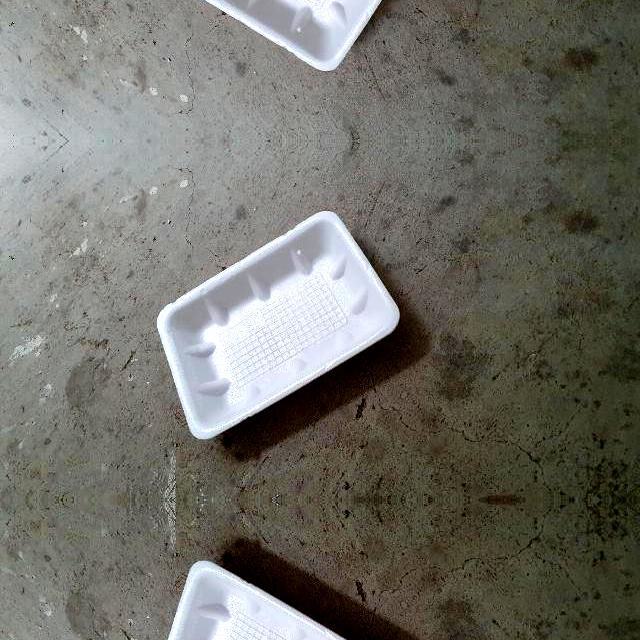Styrofoam: (154, 210, 400, 440), (157, 210, 399, 439), (154, 558, 400, 640), (154, 0, 400, 69), (167, 559, 350, 640), (206, 0, 381, 70)
